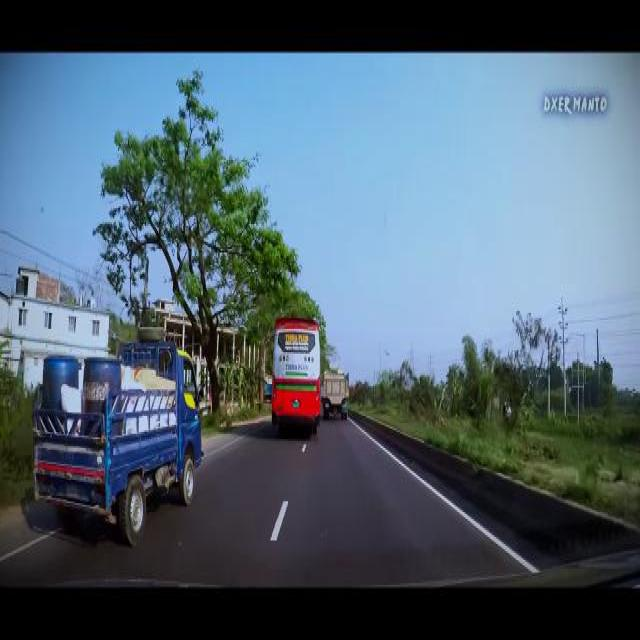bus: (270, 314, 320, 428)
pickup: (29, 338, 202, 546)
truck: (322, 366, 348, 416)
